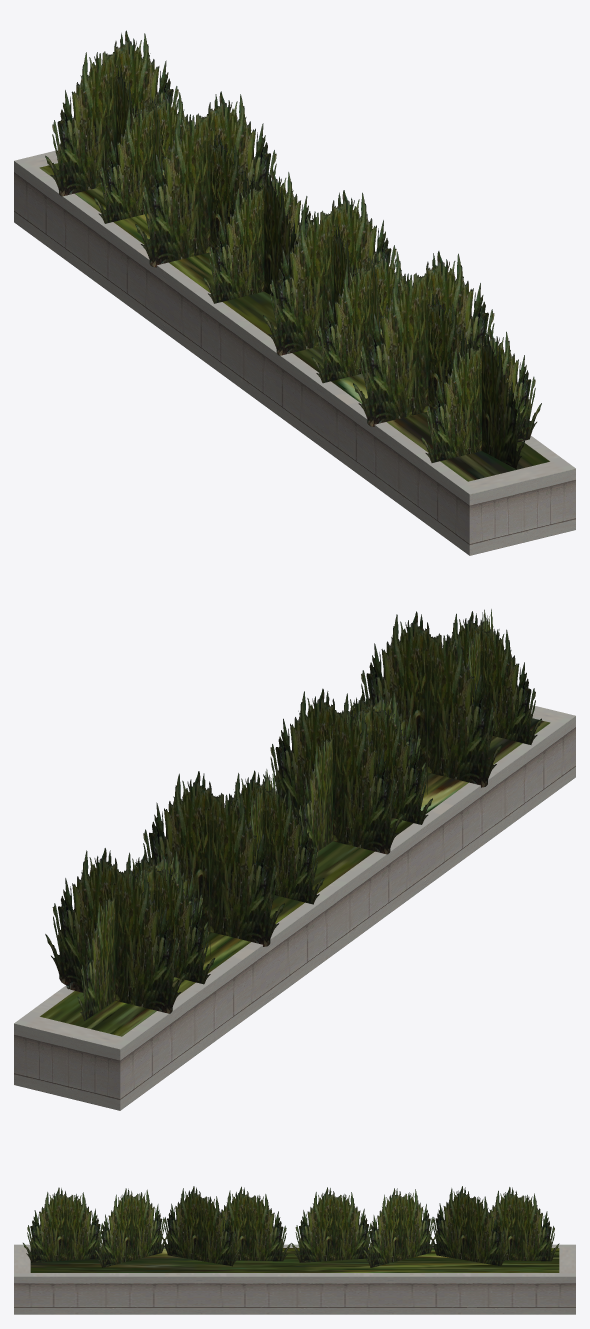
File: kb_planter+bush2.obj
The picture shows the model from 3 angles, top to bottom: view 1: azimuth 30°, elevation 25°; view 2: azimuth 150°, elevation 25°; view 3: azimuth 270°, elevation 25°; orthographic projection. The views are drawn at different scales.
Visible parts, largest first — view 1: kb_planter_bush2; view 2: kb_planter_bush2; view 3: kb_planter_bush2.
Part boxes in pixels (<box>): kb_planter_bush2: <box>14,30,575,555</box>; kb_planter_bush2: <box>14,609,575,1110</box>; kb_planter_bush2: <box>14,1186,575,1314</box>.
Size of the model in its own units: 1.03 by 1.44 by 5.38.
Materials: 2 (2 with a texture image).
